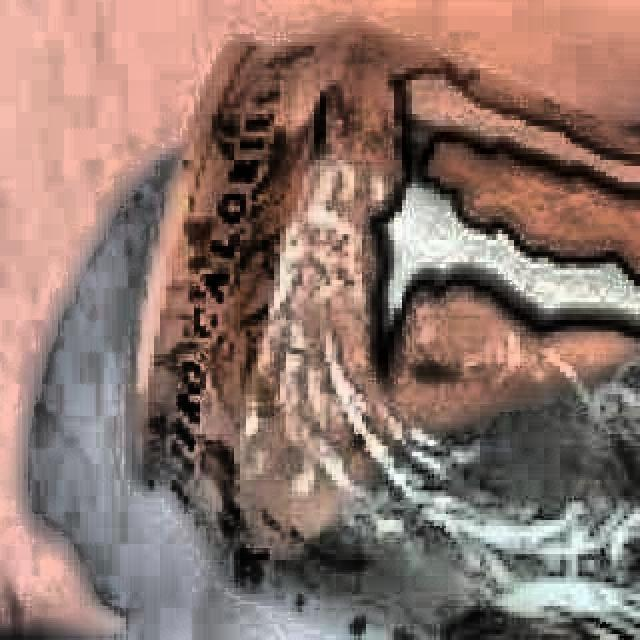metal: (120, 26, 640, 640)
